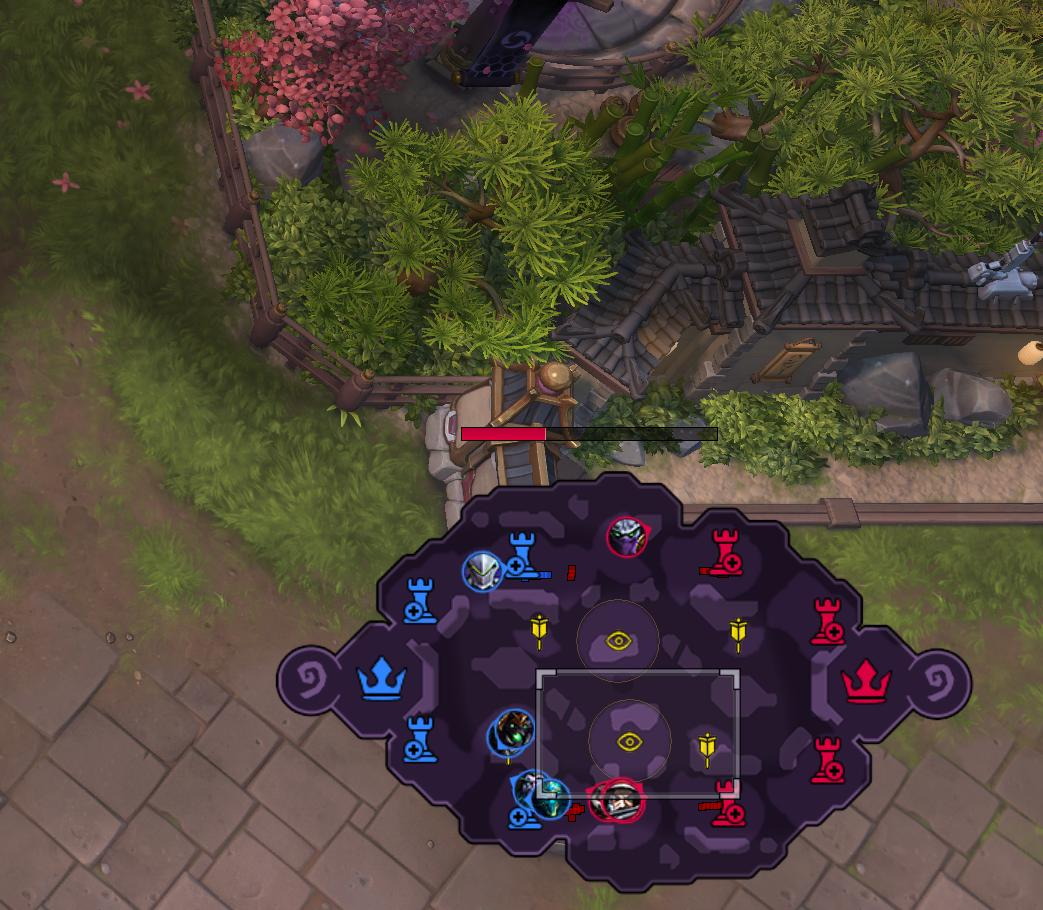blue player: (485, 707, 534, 762), (505, 767, 543, 829), (461, 551, 506, 596), (534, 774, 570, 821), (601, 784, 640, 819)
red player: (590, 776, 647, 825), (605, 514, 652, 557)
